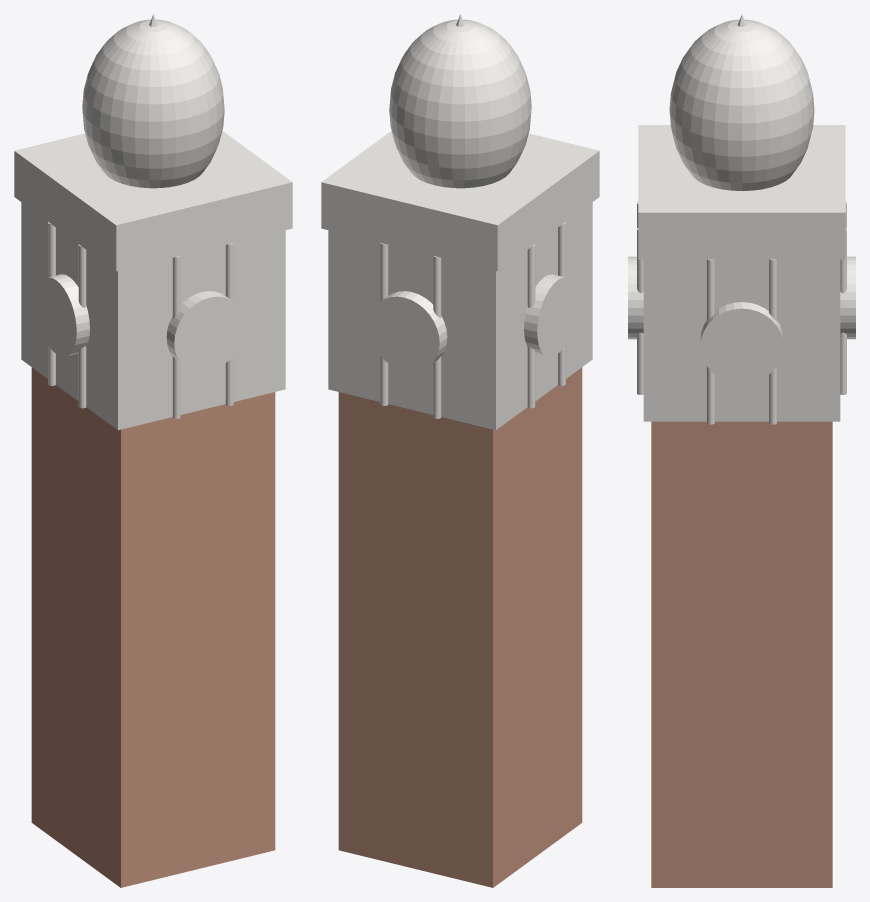
3 views of the same model, side by side, from view 1: azimuth 30°, elevation 25°; view 2: azimuth 150°, elevation 25°; view 3: azimuth 270°, elevation 25° (orthographic).
Parts seen in each view (by area): view 1: Fusto_Veneziano, Cella_Campanaria, Attico, Cupola_Cipolla, Arcata_4, Arcata_3, Colonna_3_0.6, Colonna_4_-0.6, Colonna_4_0.6, Colonna_3_-0.6; view 2: Fusto_Veneziano, Cella_Campanaria, Attico, Cupola_Cipolla, Arcata_2, Arcata_3, Colonna_3_-0.6, Colonna_2_0.6, Colonna_2_-0.6, Colonna_3_0.6; view 3: Fusto_Veneziano, Cella_Campanaria, Attico, Cupola_Cipolla, Arcata_1, Arcata_2, Arcata_4, Colonna_1_-0.6, Colonna_1_0.6, Colonna_2_-0.6, Colonna_4_0.6.
Part boxes in pixels (x1,y1,x2,y2): Fusto_Veneziano: [31, 367, 275, 887]; Cella_Campanaria: [21, 202, 285, 430]; Attico: [14, 131, 292, 271]; Cupola_Cipolla: [82, 19, 224, 188]; Arcata_4: [166, 291, 244, 372]; Arcata_3: [36, 274, 89, 356]; Colonna_3_0.6: [78, 244, 86, 408]; Colonna_4_-0.6: [172, 256, 180, 418]; Colonna_4_0.6: [225, 243, 233, 405]; Colonna_3_-0.6: [48, 222, 55, 385]; Fusto_Veneziano: [338, 367, 582, 887]; Cella_Campanaria: [328, 202, 592, 430]; Attico: [321, 131, 599, 271]; Cupola_Cipolla: [389, 19, 531, 188]; Arcata_2: [369, 291, 447, 372]; Arcata_3: [524, 274, 577, 356]; Colonna_3_-0.6: [527, 244, 535, 408]; Colonna_2_0.6: [433, 256, 441, 418]; Colonna_2_-0.6: [380, 243, 388, 405]; Colonna_3_0.6: [558, 222, 565, 385]; Fusto_Veneziano: [651, 421, 832, 887]; Cella_Campanaria: [643, 259, 840, 421]; Attico: [638, 125, 845, 259]; Cupola_Cipolla: [669, 19, 814, 190]; Arcata_1: [700, 302, 783, 383]; Arcata_2: [840, 256, 855, 339]; Arcata_4: [628, 256, 643, 339]; Colonna_1_-0.6: [706, 259, 714, 424]; Colonna_1_0.6: [769, 259, 777, 424]; Colonna_2_-0.6: [840, 228, 846, 394]; Colonna_4_0.6: [637, 228, 643, 394].
Size of the model in its own units: 4.4 by 17.8 by 4.4.
